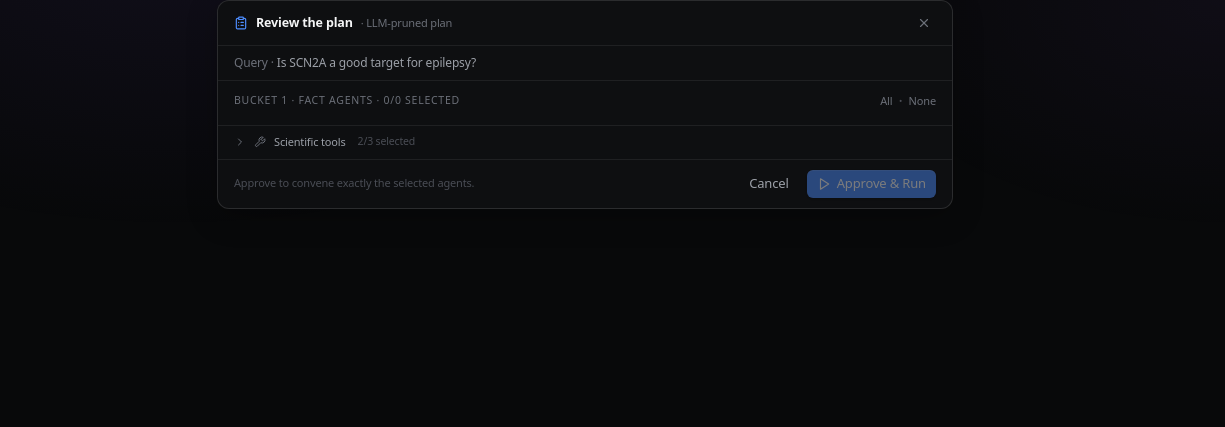
Scenario: PlanReview — tool editing panel › renders tools from tools_available with correct checked state
The image size is (1225, 427).
Expected: the text "Scientific tools" is shown, top-left (274, 134), bottom-right (346, 150)
Expected: the text "2/3 selected" is shown, top-left (358, 134), bottom-right (415, 150)
Click the button "Scientific tools 2/3 selected".
click(310, 142)  # box top-left (218, 126), bottom-right (952, 158)
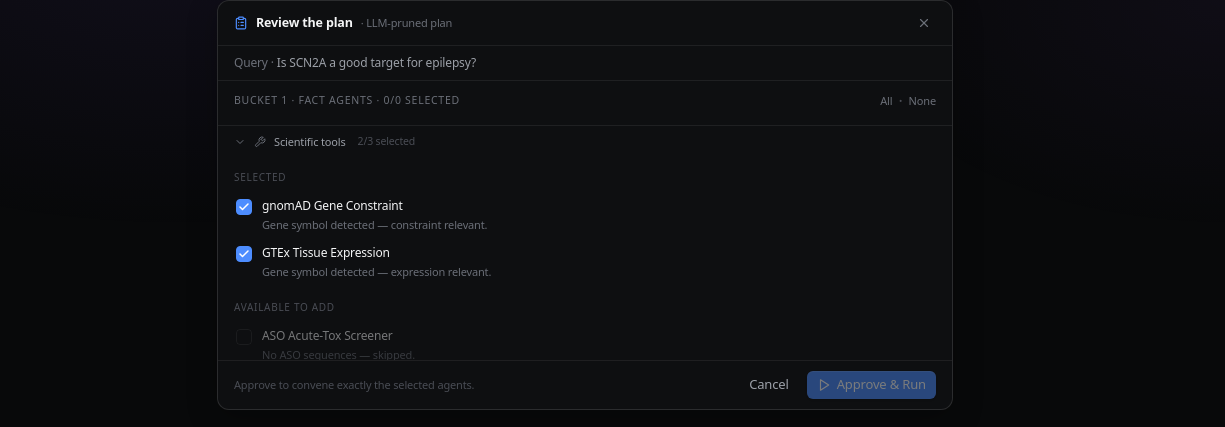
Expected: the text "gnomAD Gene Constraint" is shown, top-left (262, 196), bottom-right (403, 214)
Expected: the text "GTEx Tissue Expression" is shown, top-left (262, 244), bottom-right (390, 261)
Expected: the text "ASO Acute-Tox Screener" is shown, top-left (262, 327), bottom-right (393, 344)
